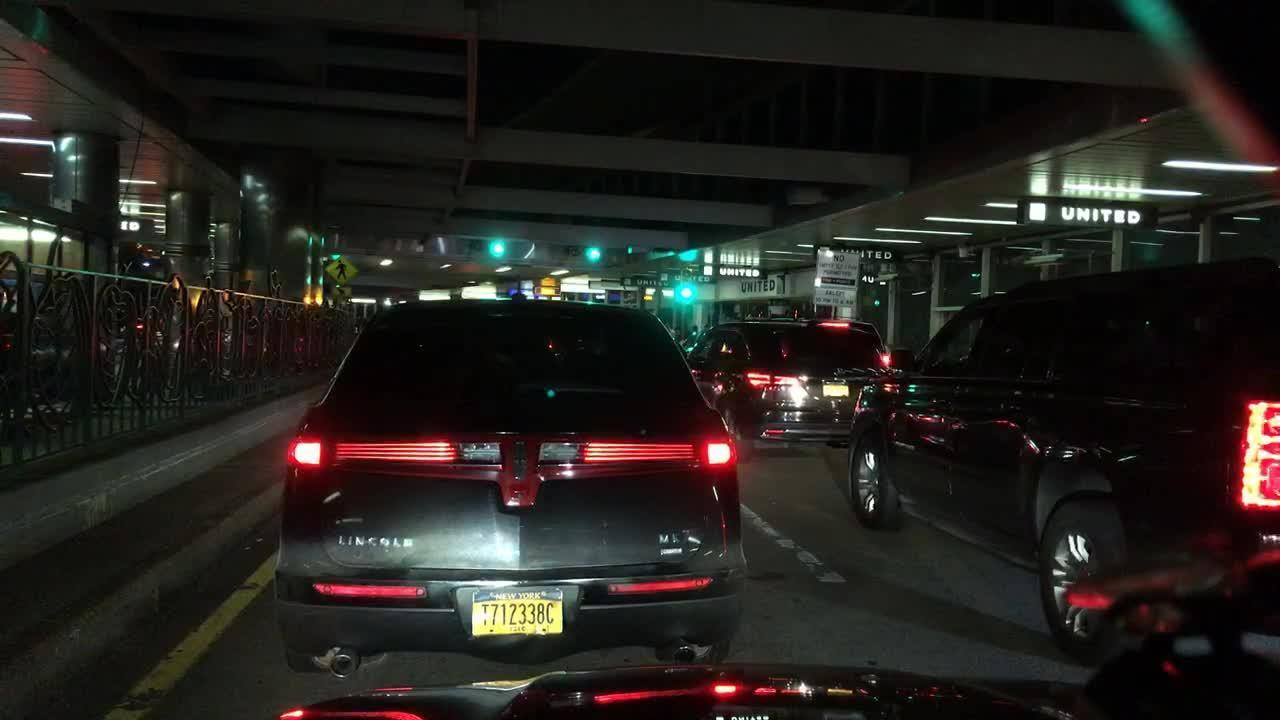lincoln: (502, 432, 539, 502)
